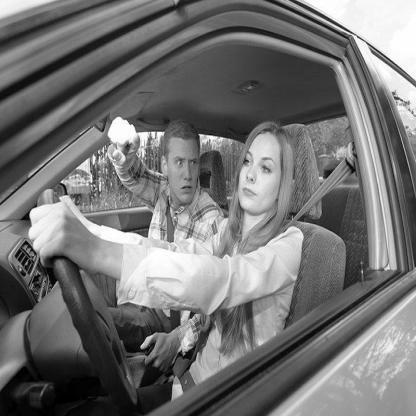seatbelt: (208, 117, 324, 331), (119, 113, 202, 257)
